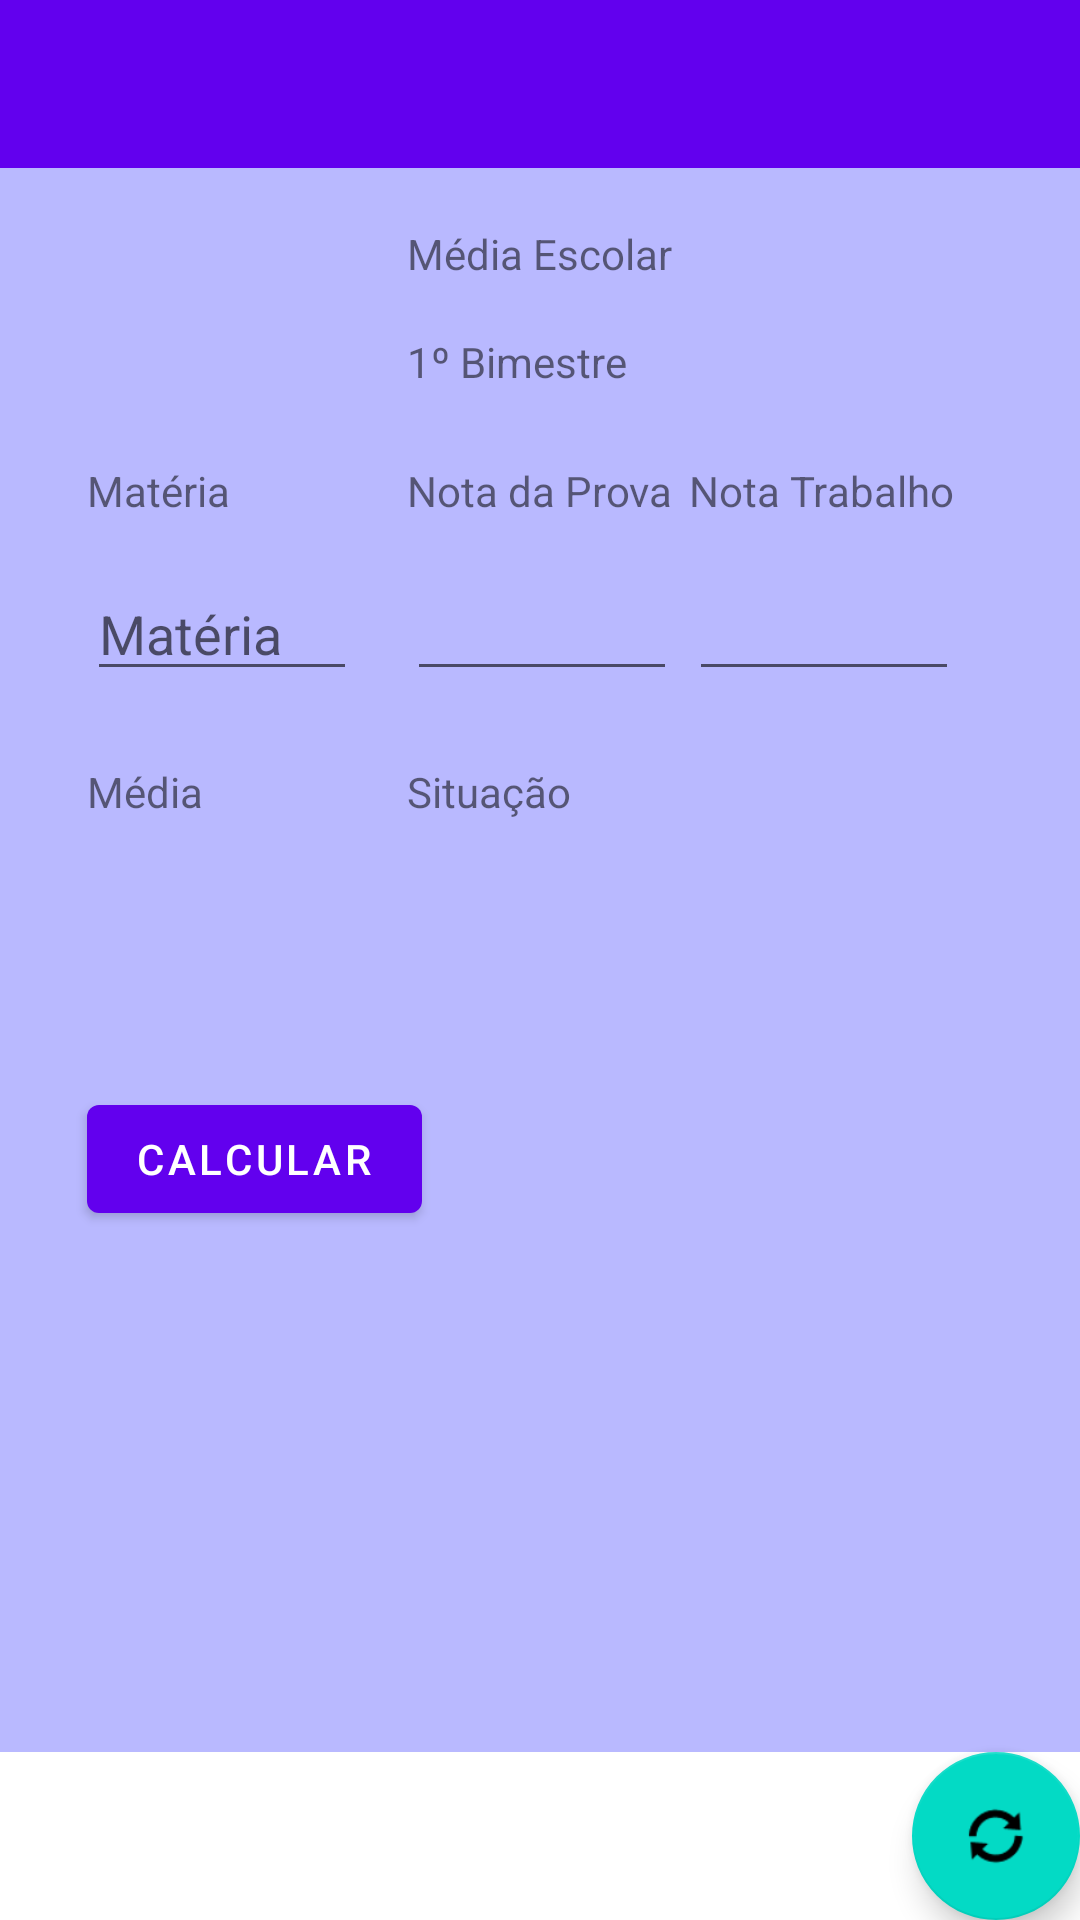

Named icons in this screenshot (1080w x 1920h) and their centers, (x=x, y=y):
popup sync: (x=996, y=1836)
